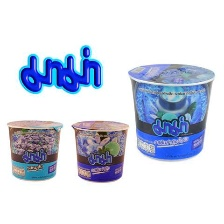paper_cup: (123, 59, 218, 165), (68, 115, 132, 186), (3, 115, 65, 184)
